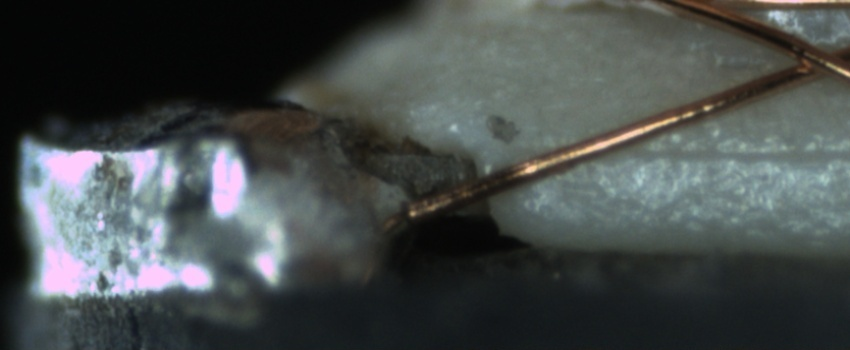CL: (771, 33, 848, 86)
DL: (563, 121, 850, 184)
